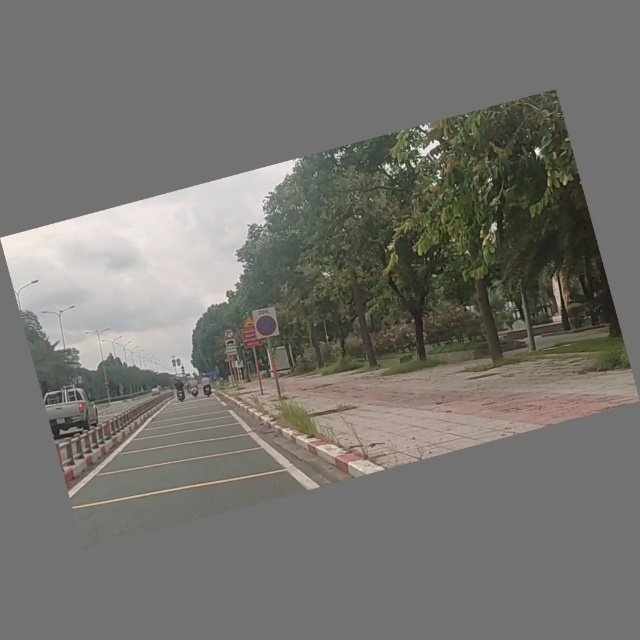P.123b: (222, 328, 235, 340)
P.130: (249, 304, 282, 342)
S.505a*Xe tai: (223, 338, 239, 358)
